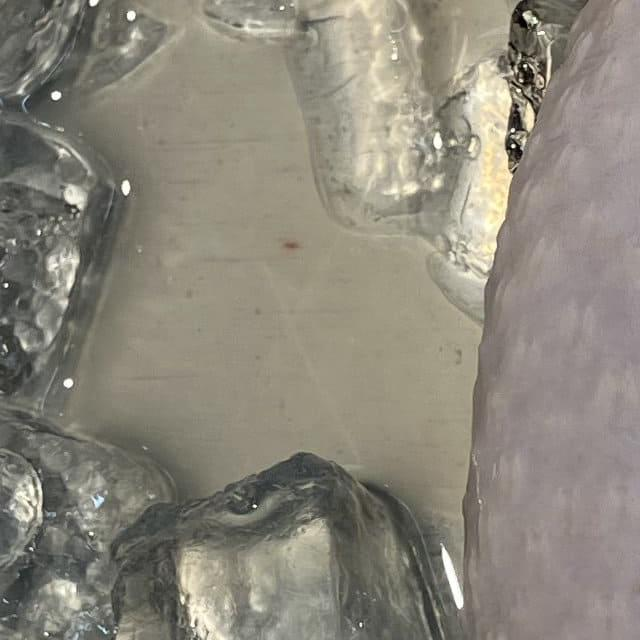chicken: (427, 0, 640, 640)
